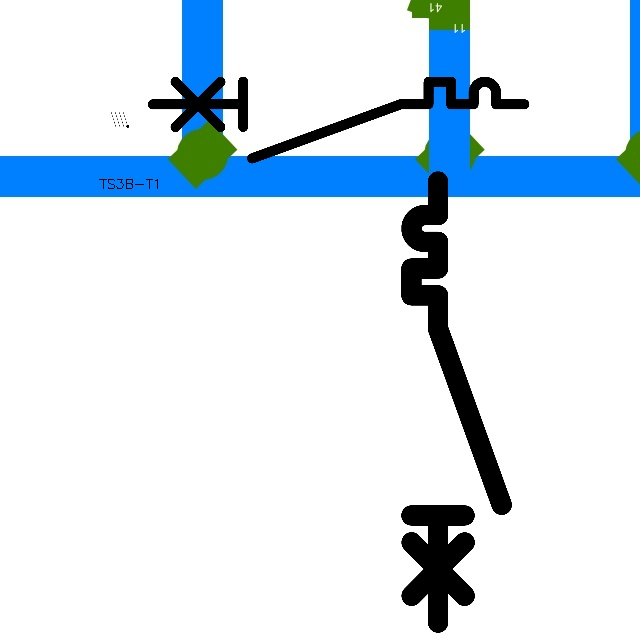interruptor_termomagnetico: (400, 170, 513, 634), (143, 72, 534, 167)
